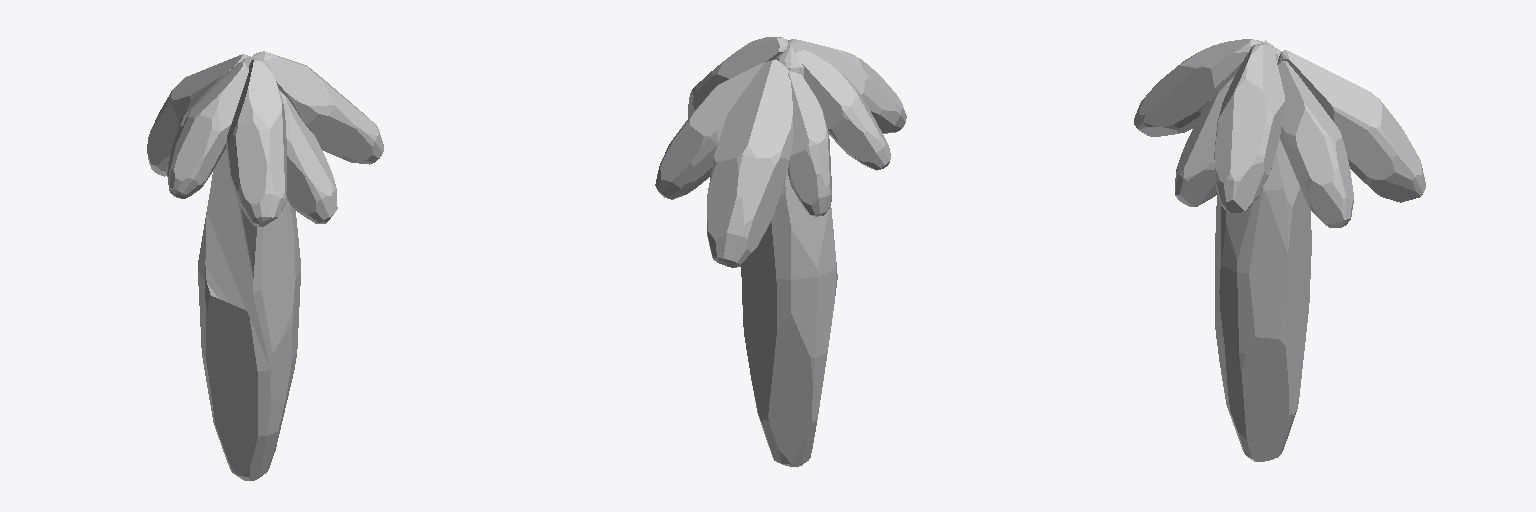
File: Crystal Tree Like Structure.obj
The picture shows the model from 3 angles: view 1: azimuth 30°, elevation 25°; view 2: azimuth 150°, elevation 25°; view 3: azimuth 270°, elevation 25°; orthographic projection.
Parts seen in each view (by area): view 1: Shard_2, Shard_1, Shard_1.003, Shard_1.001, Shard_1.005, Shard_1.002; view 2: Shard_2, Shard_1.002, Shard_1.004, Shard_1.001, Shard_1.006, Shard_1, Shard_1.003; view 3: Shard_2, Shard_1.003, Shard_1.002, Shard_1.004, Shard_1, Shard_1.005.
Part boxes in pixels (x1,y1,x2,y2): Shard_2: (198, 57, 300, 480); Shard_1: (226, 59, 286, 226); Shard_1.003: (252, 51, 383, 164); Shard_1.001: (169, 63, 248, 194); Shard_1.005: (238, 63, 337, 223); Shard_1.002: (147, 54, 250, 176); Shard_2: (741, 45, 837, 466); Shard_1.002: (707, 59, 792, 267); Shard_1.004: (655, 63, 763, 199); Shard_1.001: (795, 50, 890, 170); Shard_1.006: (788, 71, 831, 216); Shard_1: (788, 39, 906, 133); Shard_1.003: (688, 37, 787, 117); Shard_2: (1215, 40, 1311, 461); Shard_1.003: (1214, 43, 1284, 212); Shard_1.002: (1277, 50, 1425, 202); Shard_1.004: (1278, 61, 1353, 227); Shard_1: (1134, 39, 1261, 136); Shard_1.005: (1175, 49, 1280, 206).
Bounding box in the file's own units: 11.69 × 22.85 × 14.33.